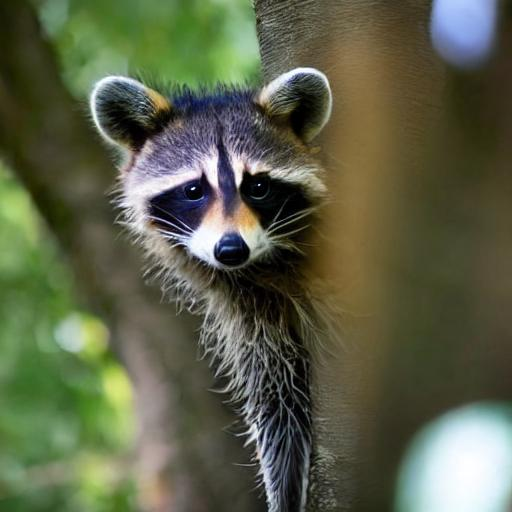raccoon: (81, 60, 333, 442)
